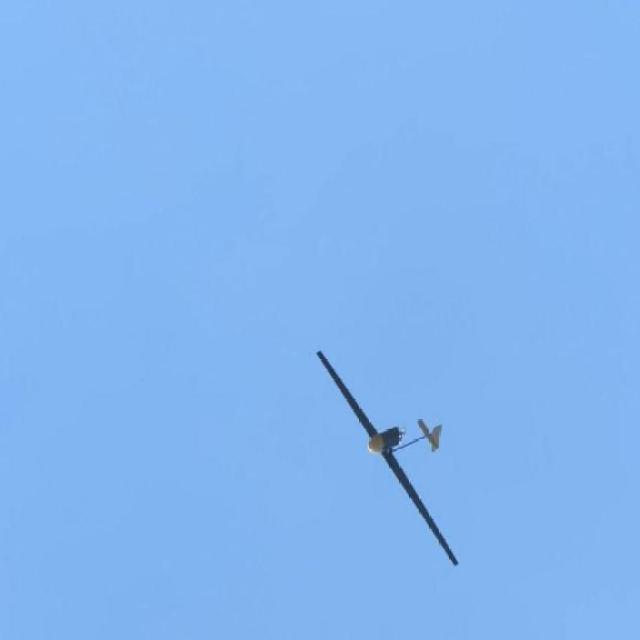plane: (316, 350, 462, 569)
